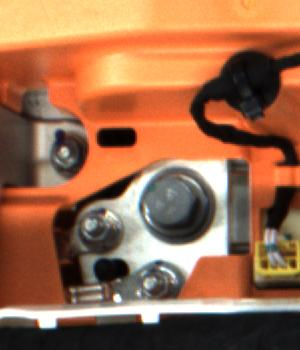nut_b: (131, 157, 221, 250)
